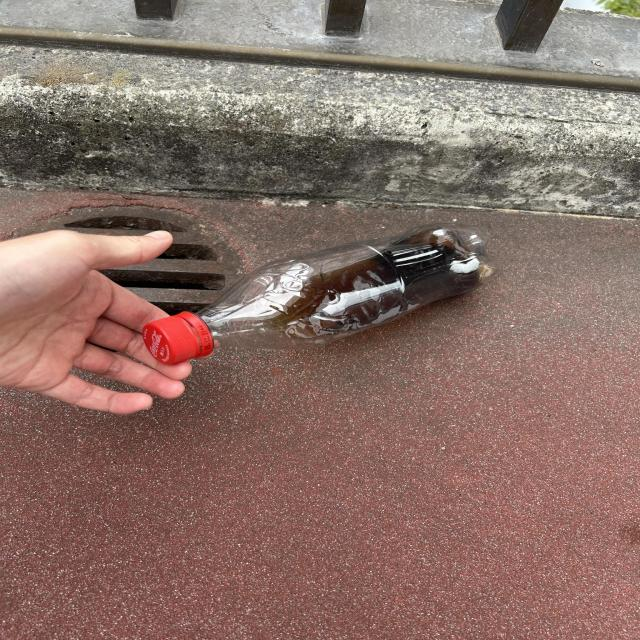low: (142, 225, 495, 364)
